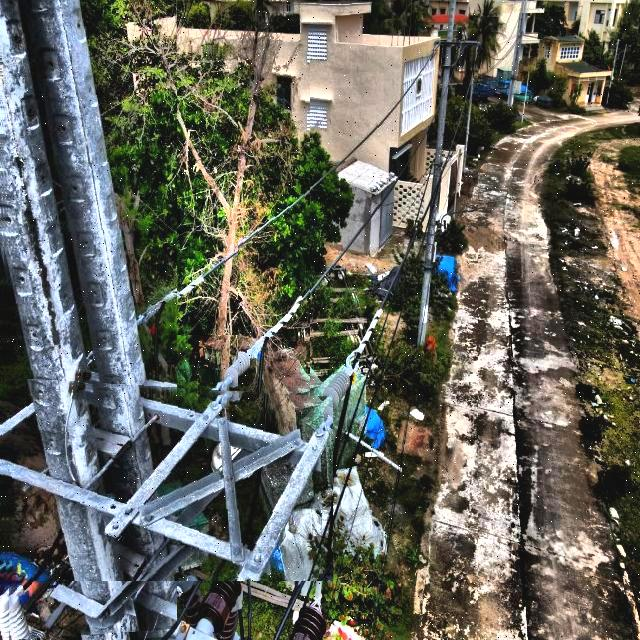crossarm: (2, 388, 333, 581)
pole: (1, 0, 177, 634)
wire: (238, 57, 464, 539), (310, 51, 478, 614), (128, 56, 440, 335)
